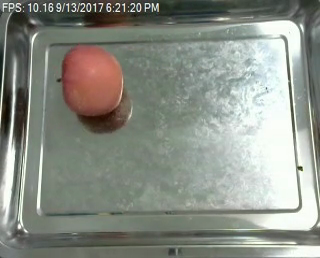Apple: (57, 40, 127, 125)
